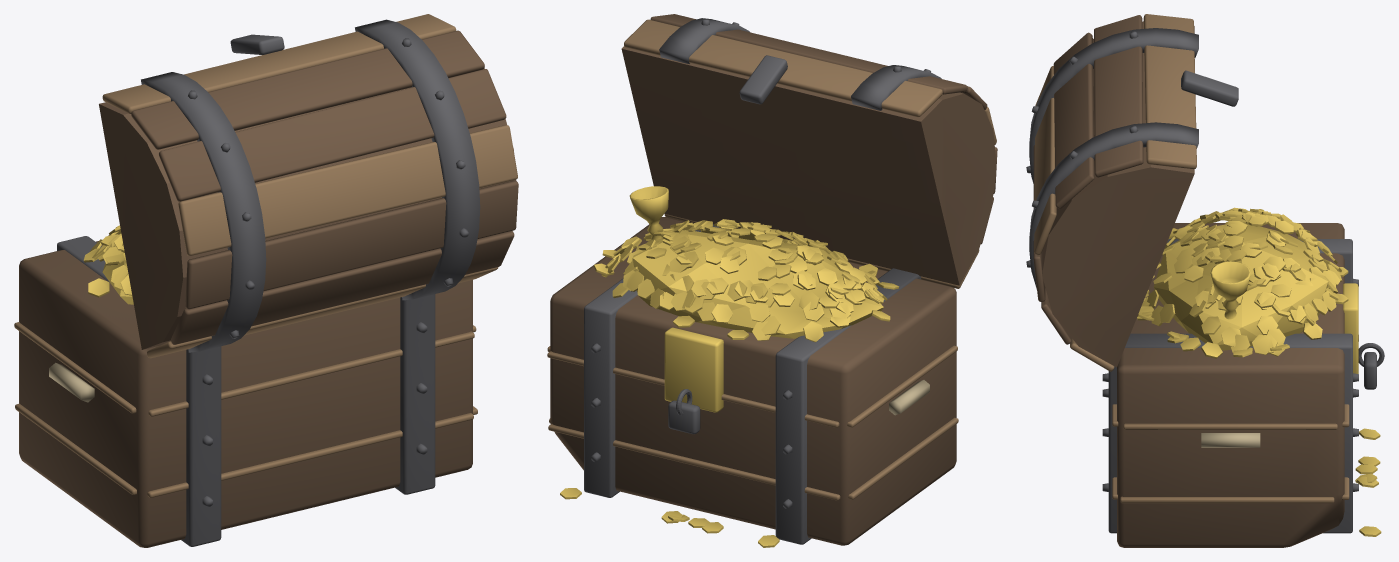
Rendered from chest_open.be6cdb17.glb.
The picture shows the model from 3 angles, left to right: view 1: azimuth 30°, elevation 25°; view 2: azimuth 150°, elevation 25°; view 3: azimuth 270°, elevation 25°; orthographic projection. The views are drawn at different scales.
Visible parts, largest first — view 1: chest_open; view 2: chest_open; view 3: chest_open.
Boxes of the visible parts, box(x1,y1,x2,y2) form: chest_open: box(14, 14, 518, 547); chest_open: box(547, 14, 997, 547); chest_open: box(1026, 14, 1384, 547).
Bounding box in the file's own units: 1.03 × 1.22 × 0.9745.
